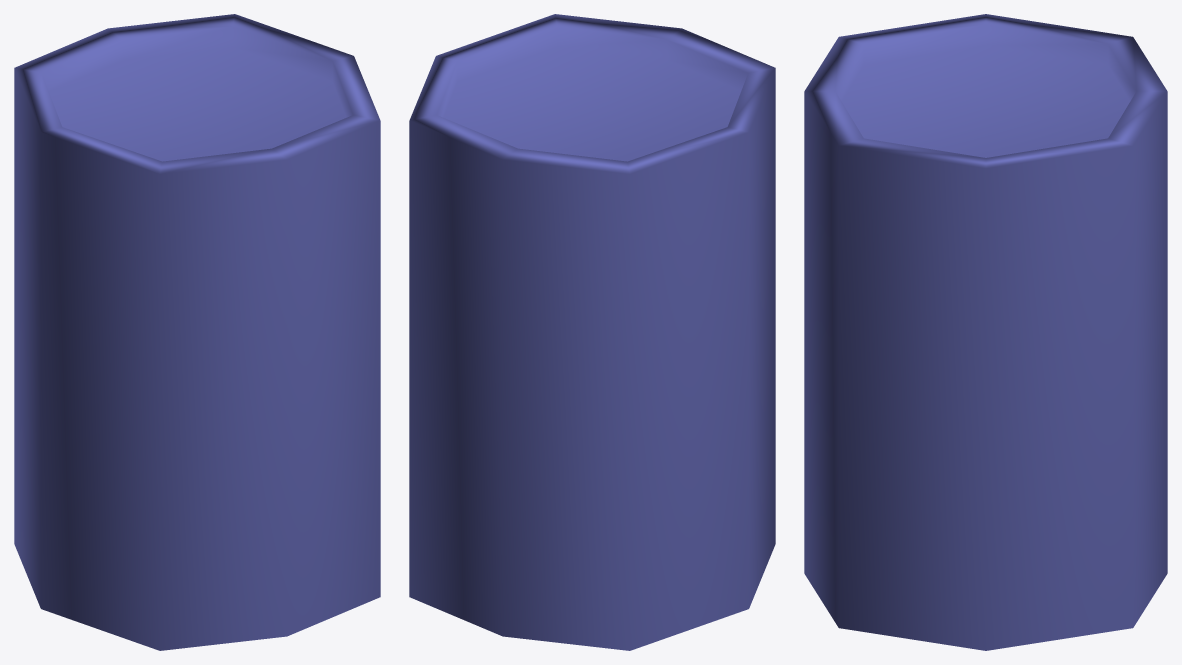
Rendered from barrel.fbx.
The picture shows the model from 3 angles, left to right: view 1: azimuth 30°, elevation 25°; view 2: azimuth 150°, elevation 25°; view 3: azimuth 270°, elevation 25°; orthographic projection.
Visible parts, largest first — view 1: pCube1; view 2: pCube1; view 3: pCube1.
Part boxes in pixels (x1,y1,x2,y2): pCube1: (14,14,380,650); pCube1: (409,14,775,650); pCube1: (804,14,1167,650).
Bounding box in the file's own units: 5.5 × 8 × 5.46.
